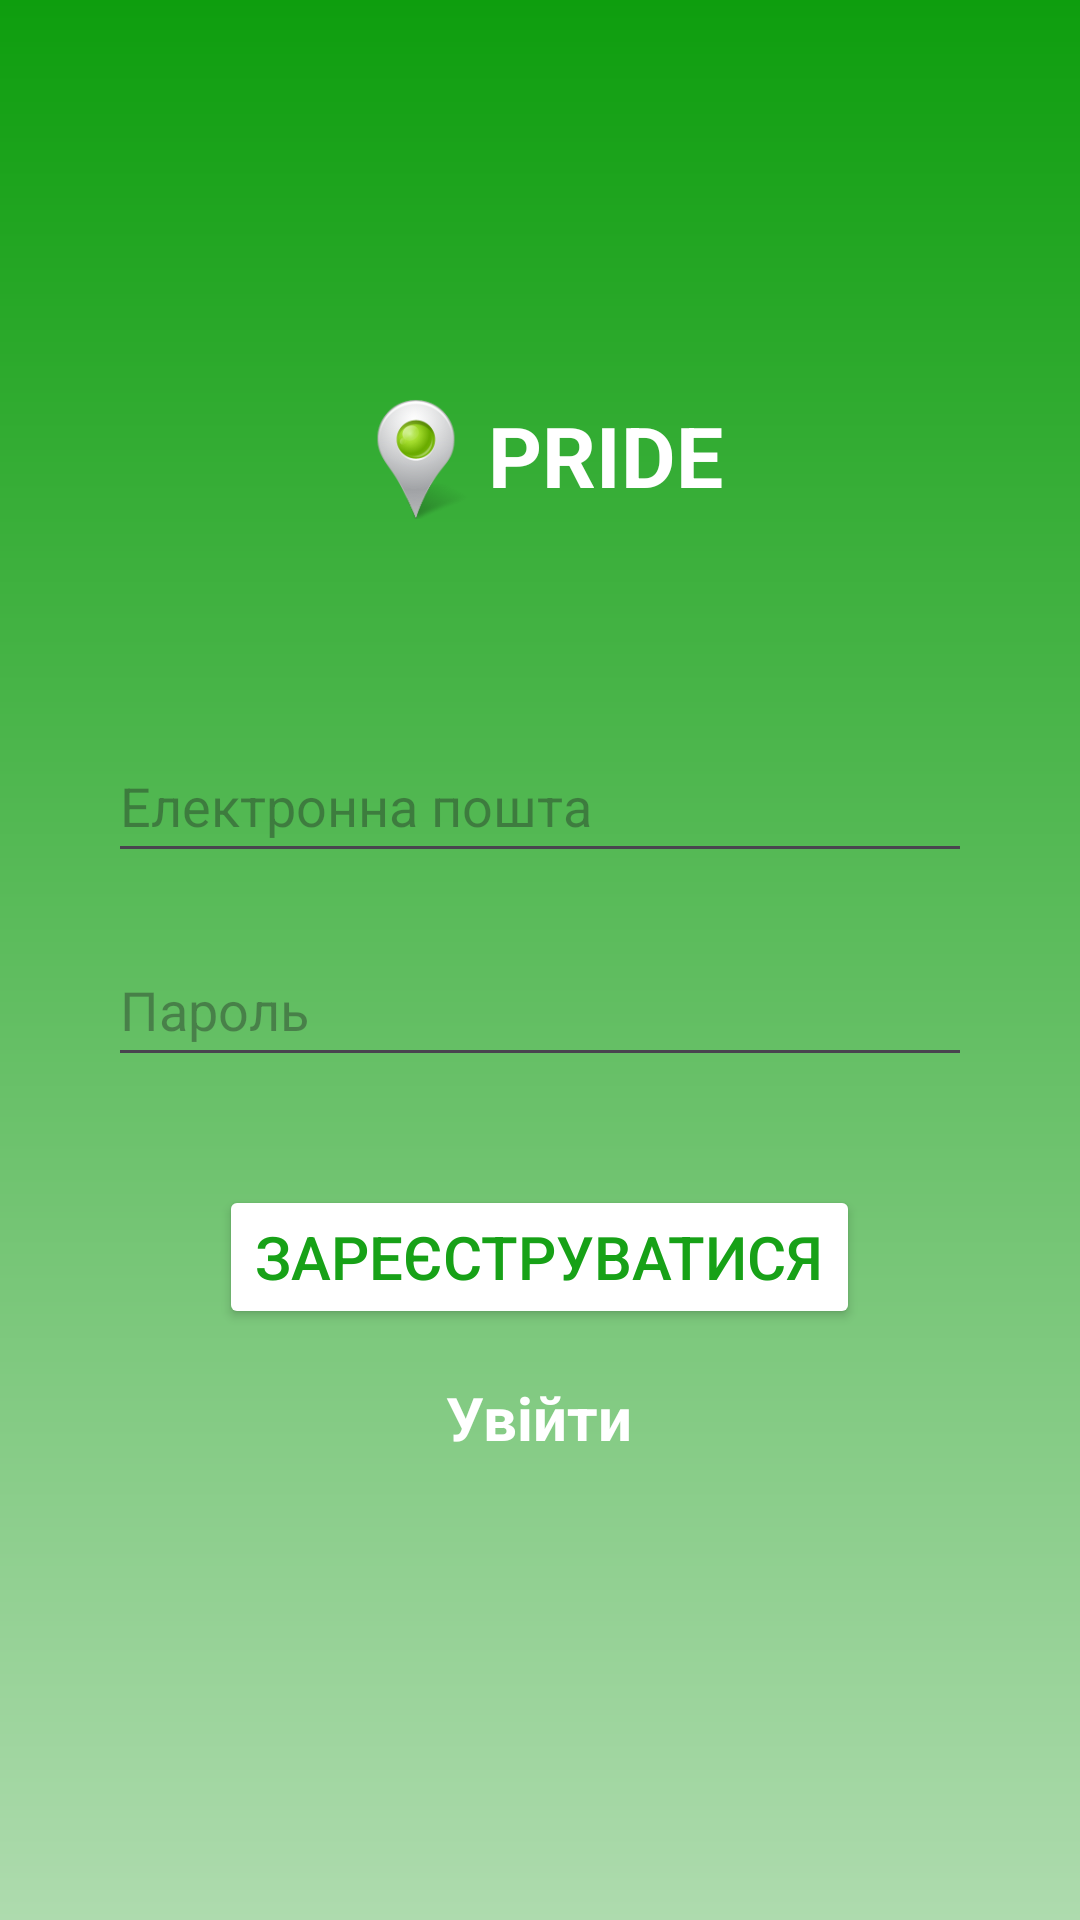

Locate icon controls on the screen. Image size 1080×1920, boxes as [x1, y1, x2, y2].
Location Icon: [377, 400, 455, 518]
